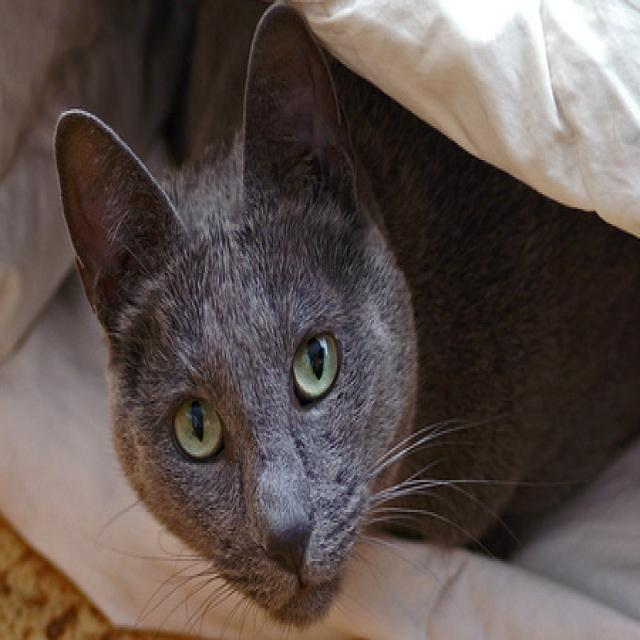Russian Blue: (52, 0, 640, 638)
